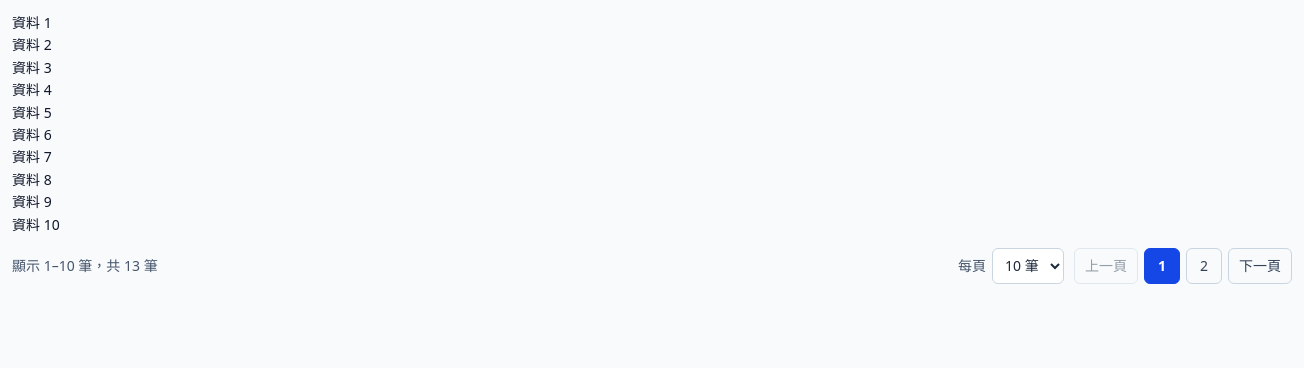
Test: TablePagination › changes page and page size while keeping page state aligned with the displayed rows
The image size is (1304, 368).
Check: the text "顯示 1–10 筆，共 13 筆" is shown, box [12, 256, 158, 276]
Click the button named "測試清單第 2 頁". click: (1204, 266)
box: [1186, 248, 1222, 284]
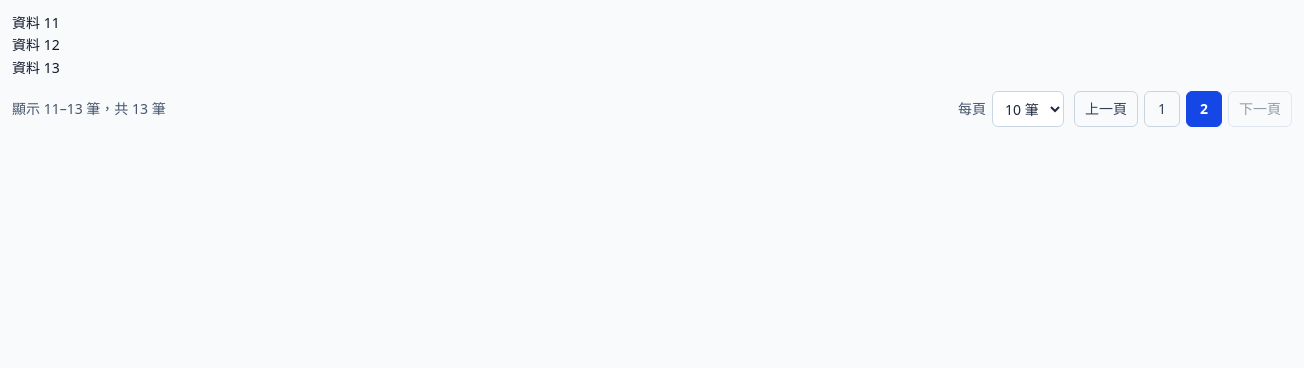
Check: the text "顯示 11–13 筆，共 13 筆" is shown, box [12, 99, 166, 119]
Select "20 筆" in the dropdown named "測試清單每頁筆數". click: (1028, 109)
box: [992, 91, 1064, 127]
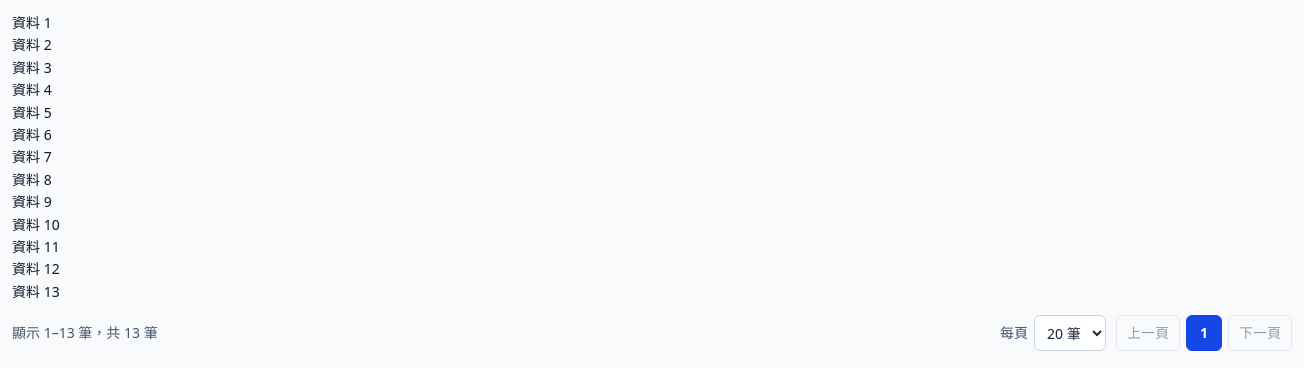
Check: the text "顯示 1–13 筆，共 13 筆" is shown, box [12, 323, 158, 343]
